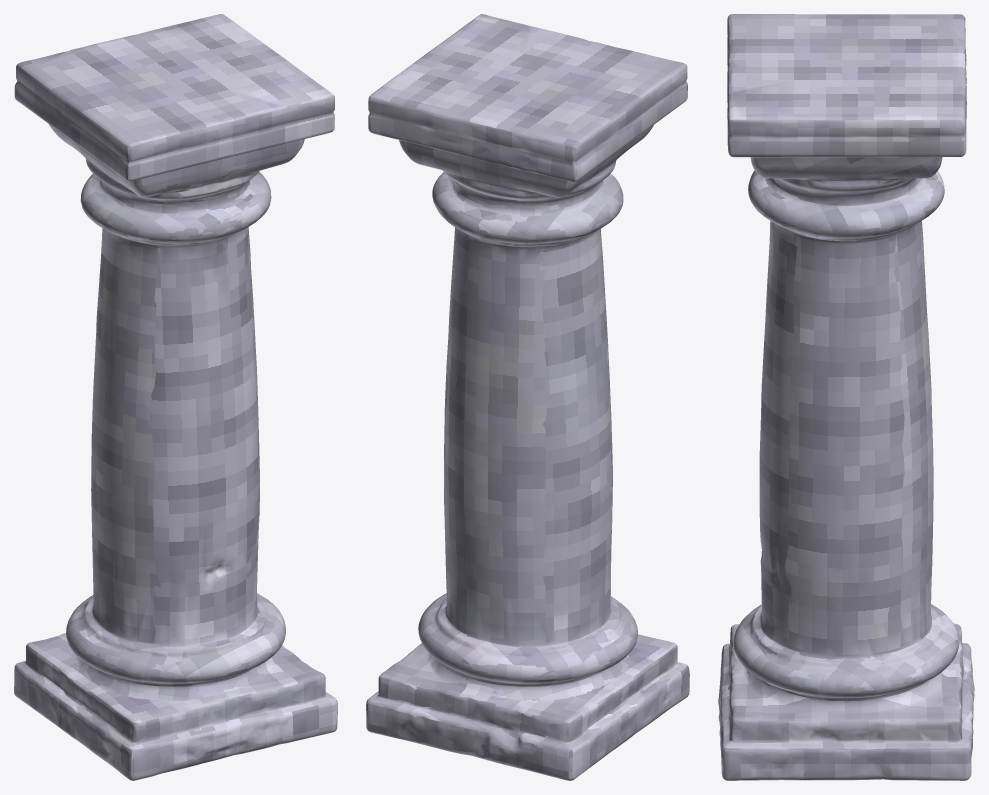
The model's file is weathered-monolith-pillar-generated-2026-04-18T22-01-36-007Z.low.glb.
3 views of the same model, side by side, from view 1: azimuth 30°, elevation 25°; view 2: azimuth 150°, elevation 25°; view 3: azimuth 270°, elevation 25° (orthographic). The views are drawn at different scales.
Parts seen in each view (by area): view 1: temp_mesh.ply; view 2: temp_mesh.ply; view 3: temp_mesh.ply.
Boxes of the visible parts, <box> form: temp_mesh.ply: <box>14,14,337,780</box>; temp_mesh.ply: <box>366,14,689,780</box>; temp_mesh.ply: <box>718,14,974,780</box>.
Bounding box in the file's own units: 0.6844 × 1.97 × 0.6911.
1 material, 1 textured.
